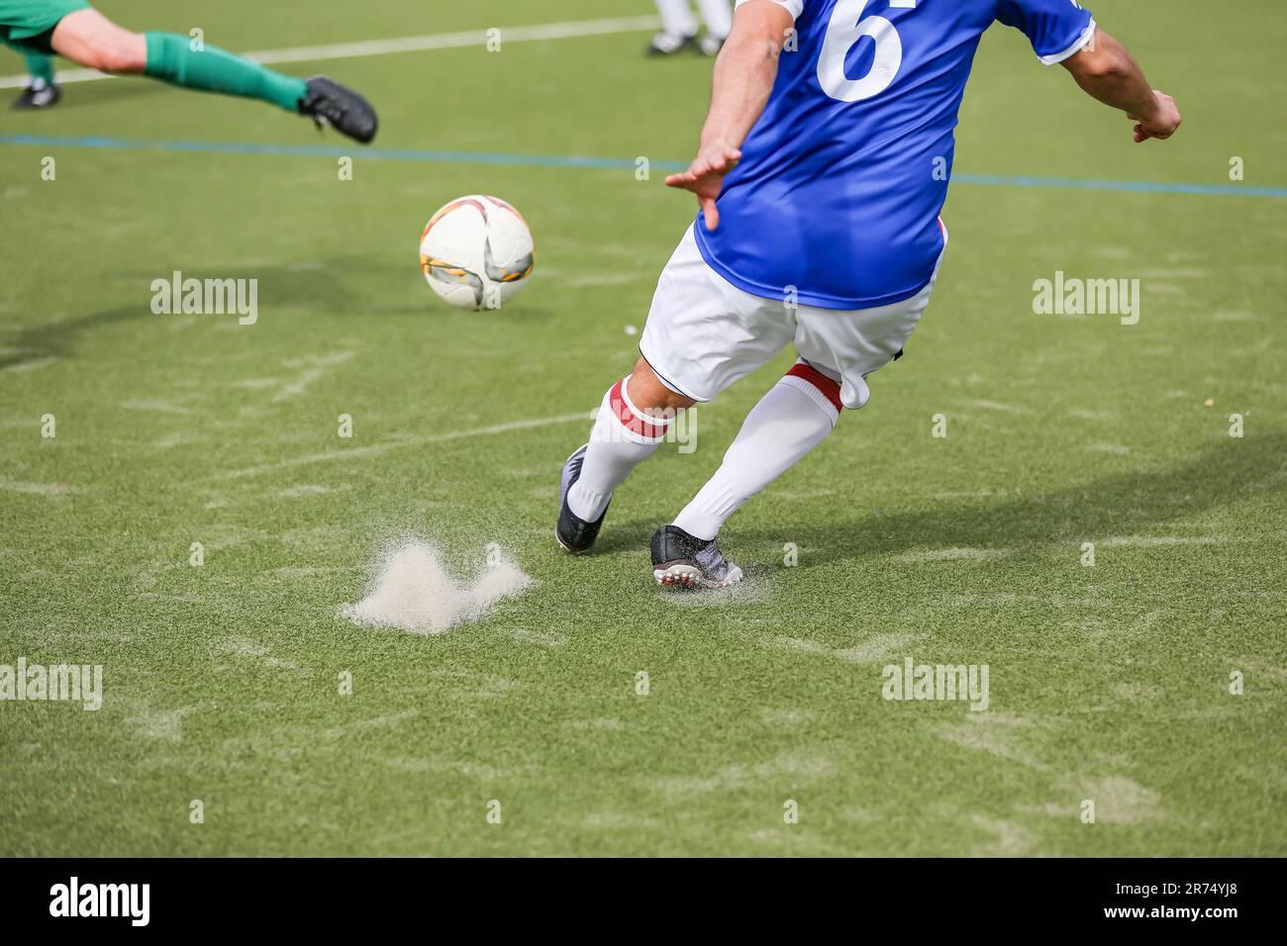ballon_football: (419, 195, 537, 312)
